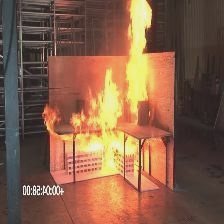fire: (62, 1, 169, 197)
